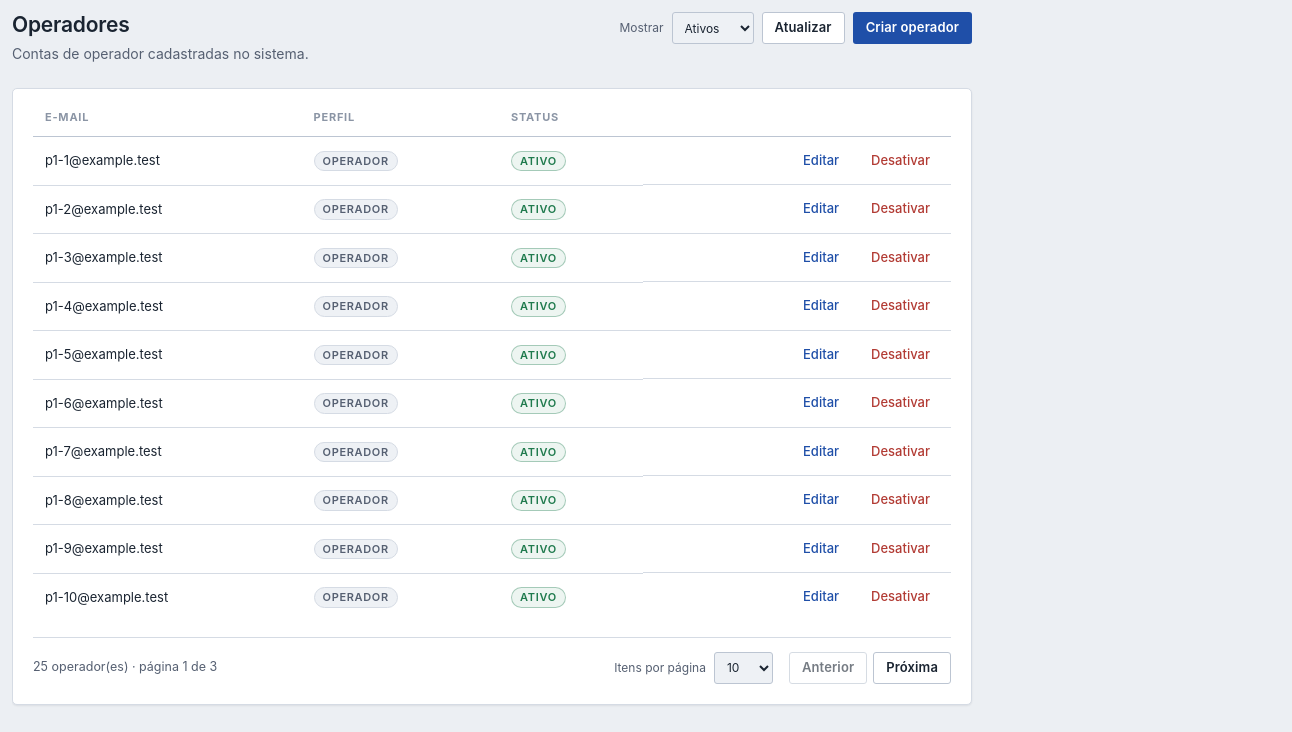
Test: OperatorsListPage: carga, filtro, paginação e erros › navega entre páginas e desabilita Anterior na primeira e Próxima na última
The width and height of the screenshot is (1292, 732).
Expected: the text "25 operador(es) · página 1 de 3" is shown, x1=33 y1=658 x2=217 y2=677
Expected: the button "Anterior" is disabled, x1=789 y1=652 x2=867 y2=684
Click the button "Próxima". click: point(912, 668)
box: x1=873 y1=652 x2=951 y2=684
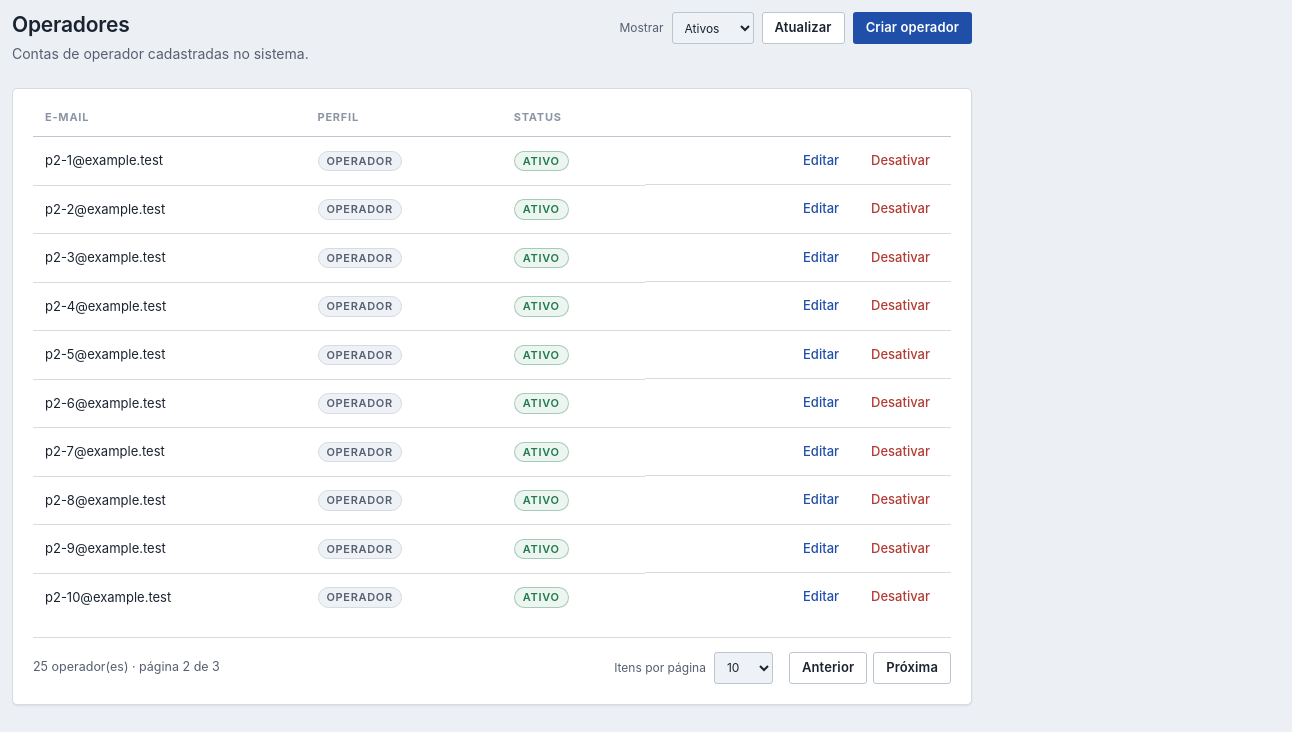
Expected: the text "25 operador(es) · página 2 de 3" is shown, x1=33 y1=658 x2=220 y2=677
Expected: the button "Anterior" is enabled, x1=789 y1=652 x2=867 y2=684
Click the button "Próxima". click: point(912, 668)
box: x1=873 y1=652 x2=951 y2=684
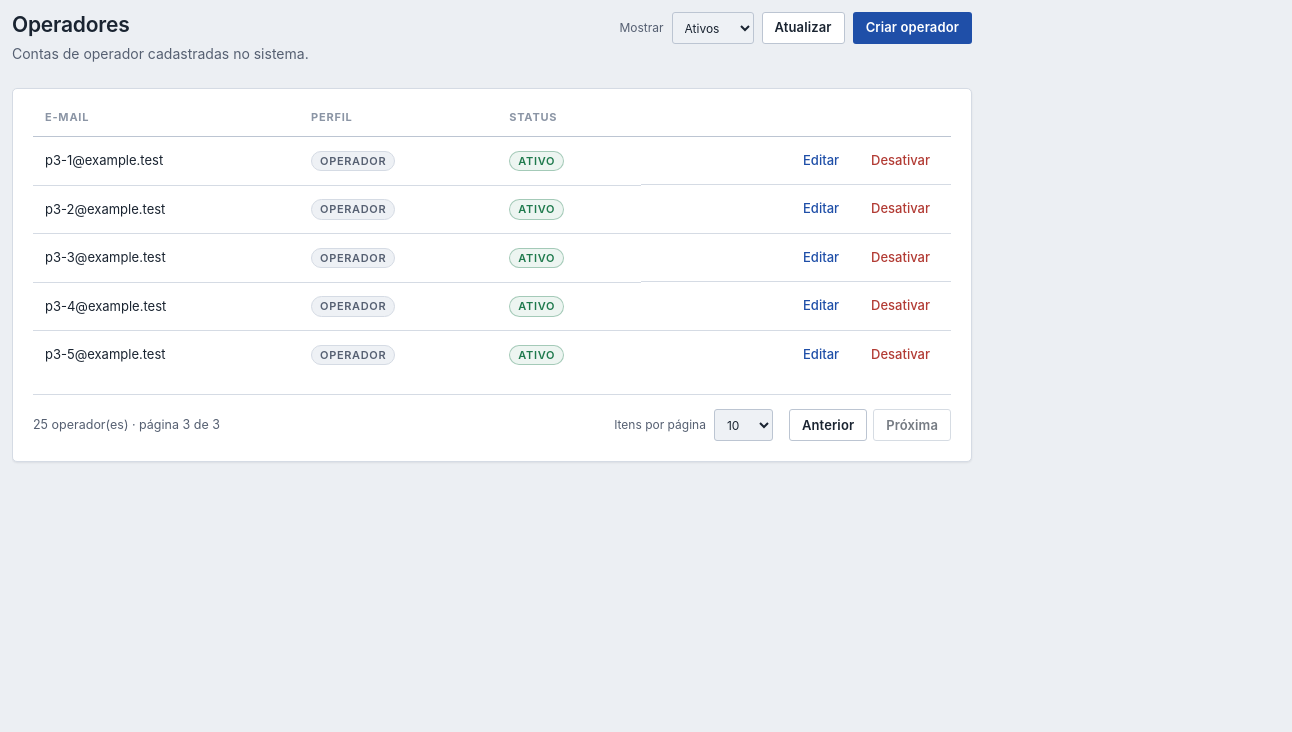
Expected: the button "Anterior" is enabled
Expected: the text "25 operador(es) · página 3 de 3" is shown, x1=33 y1=416 x2=220 y2=435
Expected: the button "Próxima" is disabled, x1=873 y1=409 x2=951 y2=441
Click the button "Anterior". click: point(828, 425)
box: x1=789 y1=409 x2=867 y2=441
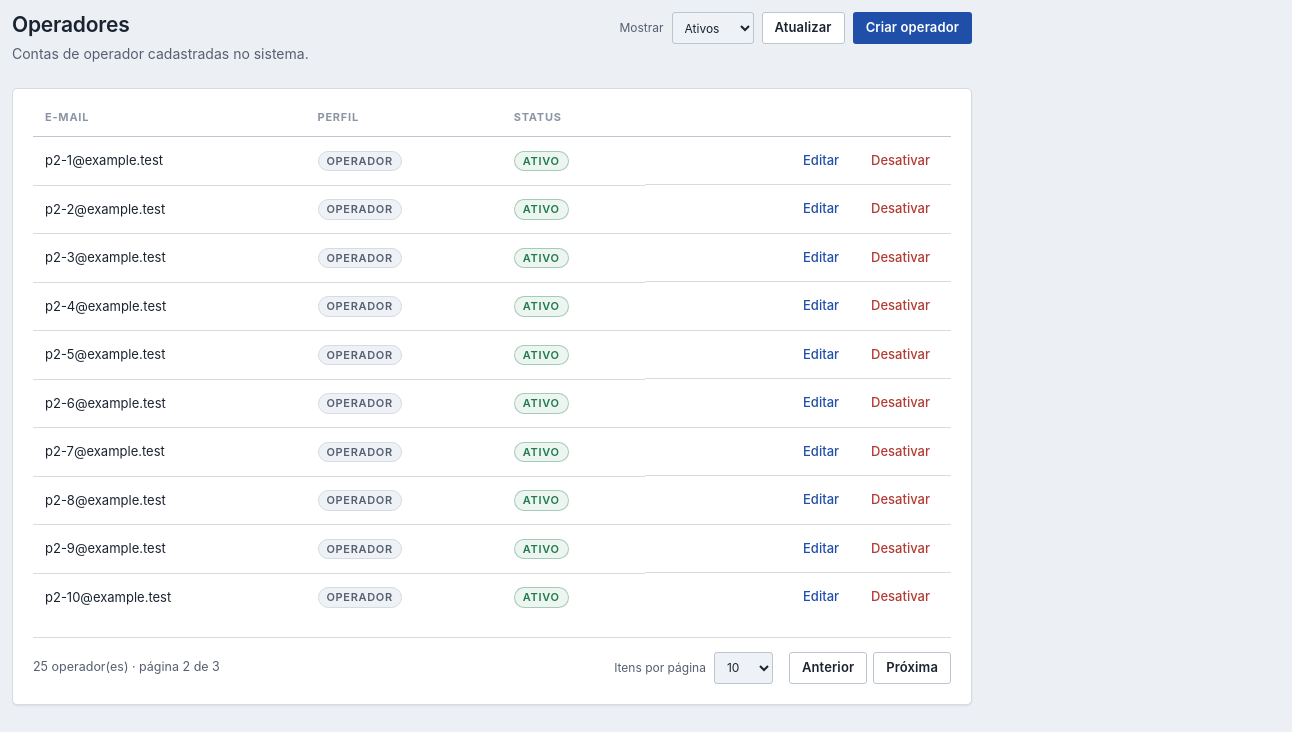
Expected: the text "25 operador(es) · página 2 de 3" is shown, x1=33 y1=658 x2=220 y2=677
